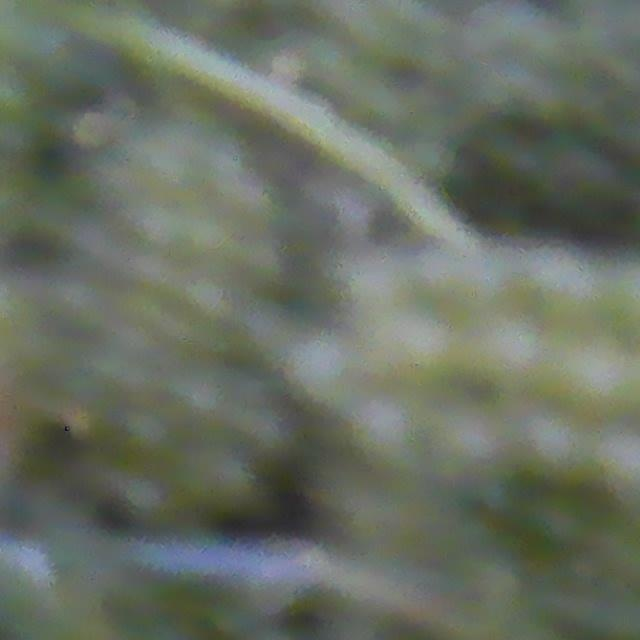SeaGrape: (552, 330, 640, 425), (505, 246, 595, 327), (466, 319, 545, 395), (429, 414, 512, 484), (516, 412, 596, 482), (287, 336, 360, 406), (337, 249, 408, 318), (382, 319, 455, 385), (414, 242, 484, 309), (351, 400, 419, 468)
